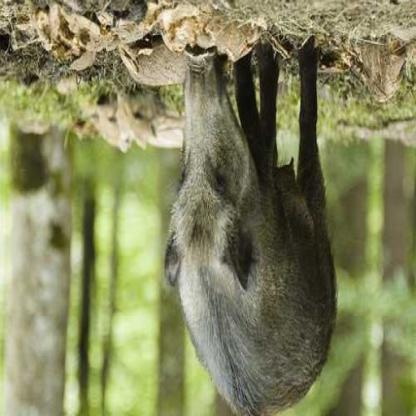boar: (172, 26, 344, 416)
